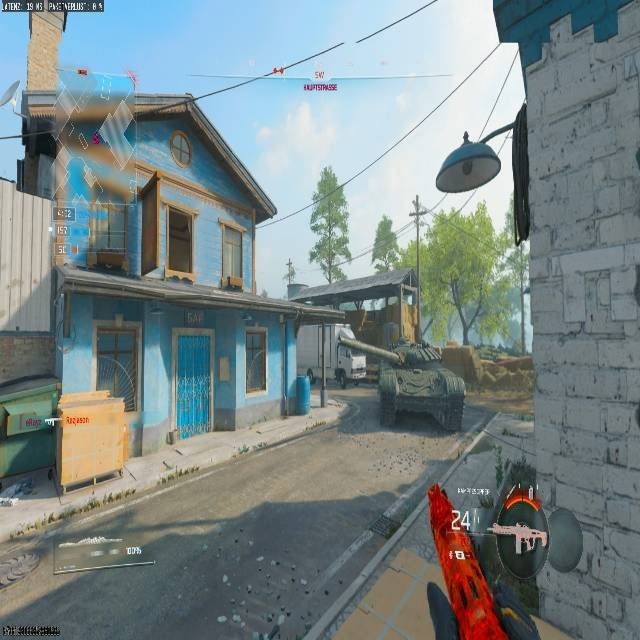player: (335, 365, 345, 387)
